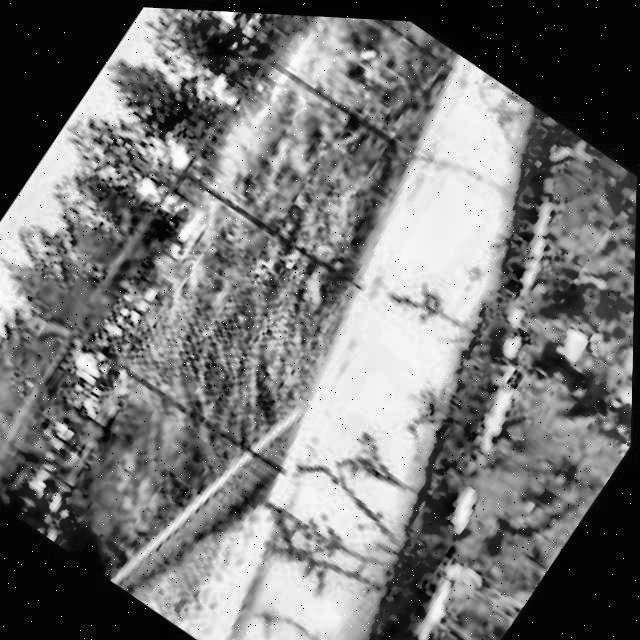Fire: (608, 271, 636, 412)
